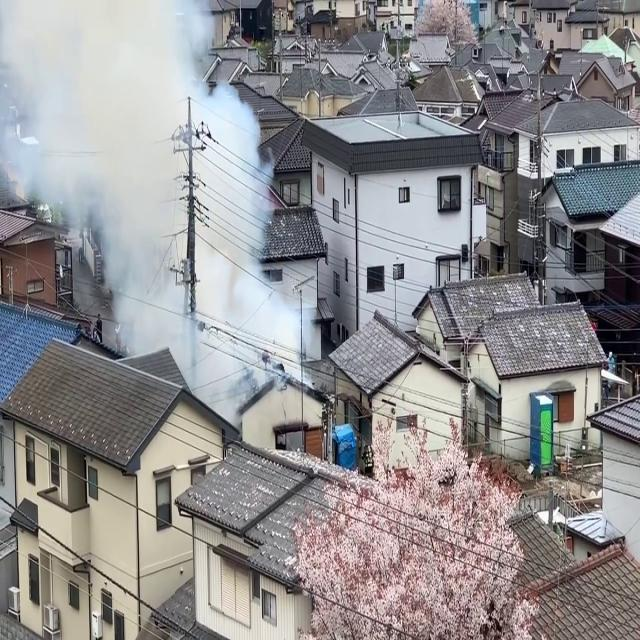Smoke: (40, 1, 310, 370)
